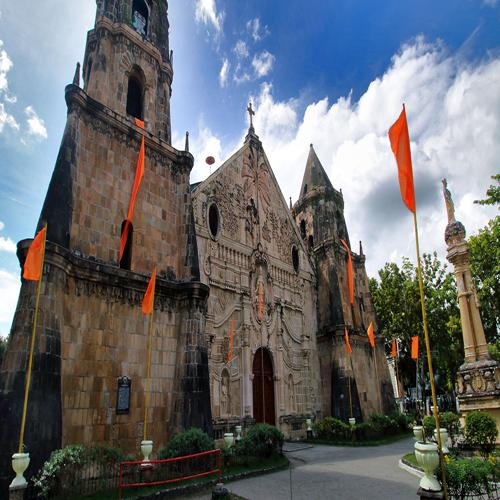Miagao Church: (17, 2, 398, 445)
